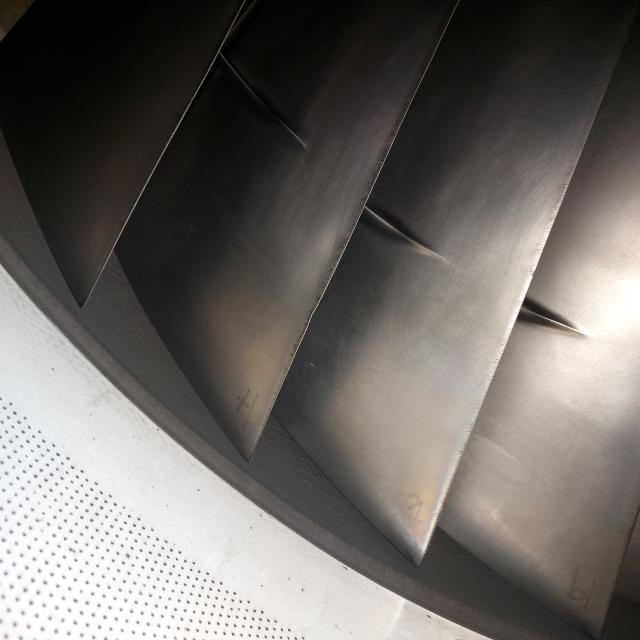dent: (306, 302, 320, 326)
